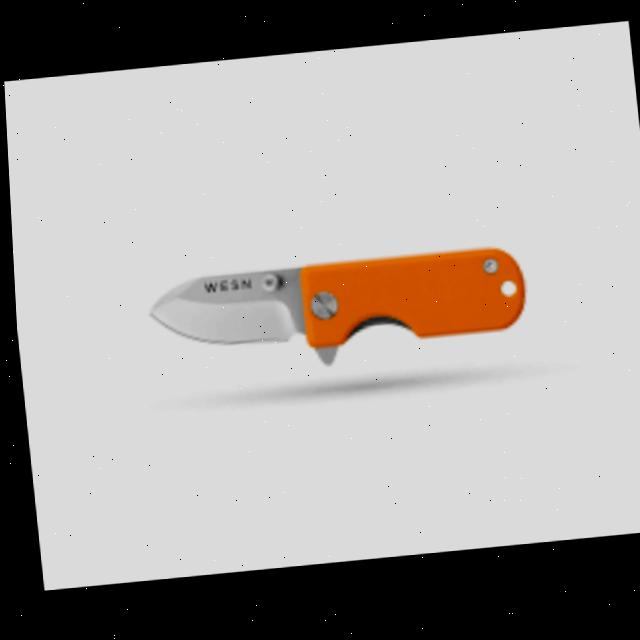knife: (141, 247, 527, 383)
